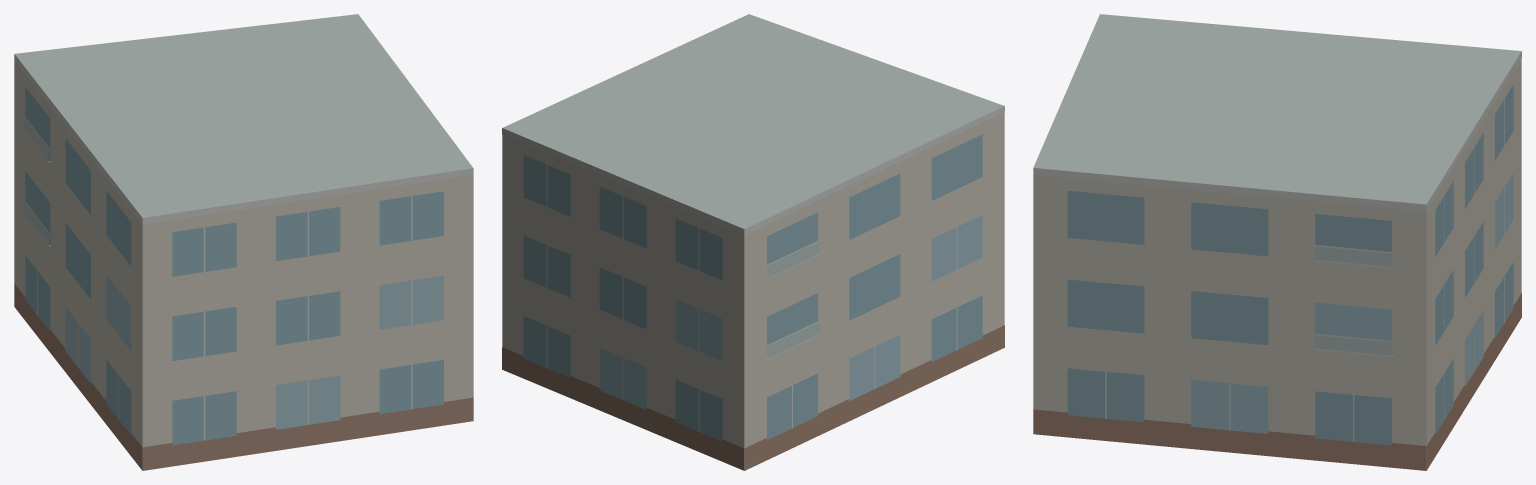
The model's file is survey-upis-32844963.glb.
The picture shows the model from 3 angles, left to right: view 1: azimuth 30°, elevation 25°; view 2: azimuth 150°, elevation 25°; view 3: azimuth 270°, elevation 25°; orthographic projection. The views are drawn at different scales.
Parts seen in each view (by area): view 1: survey-upis-32844963.tmp; view 2: survey-upis-32844963.tmp; view 3: survey-upis-32844963.tmp.
Boxes of the visible parts, x1,y1,x2,y2 form: survey-upis-32844963.tmp: [14, 14, 473, 470]; survey-upis-32844963.tmp: [502, 14, 1004, 470]; survey-upis-32844963.tmp: [1033, 14, 1521, 470].
Size of the model in its own units: 14.28 by 9.3 by 15.47.
